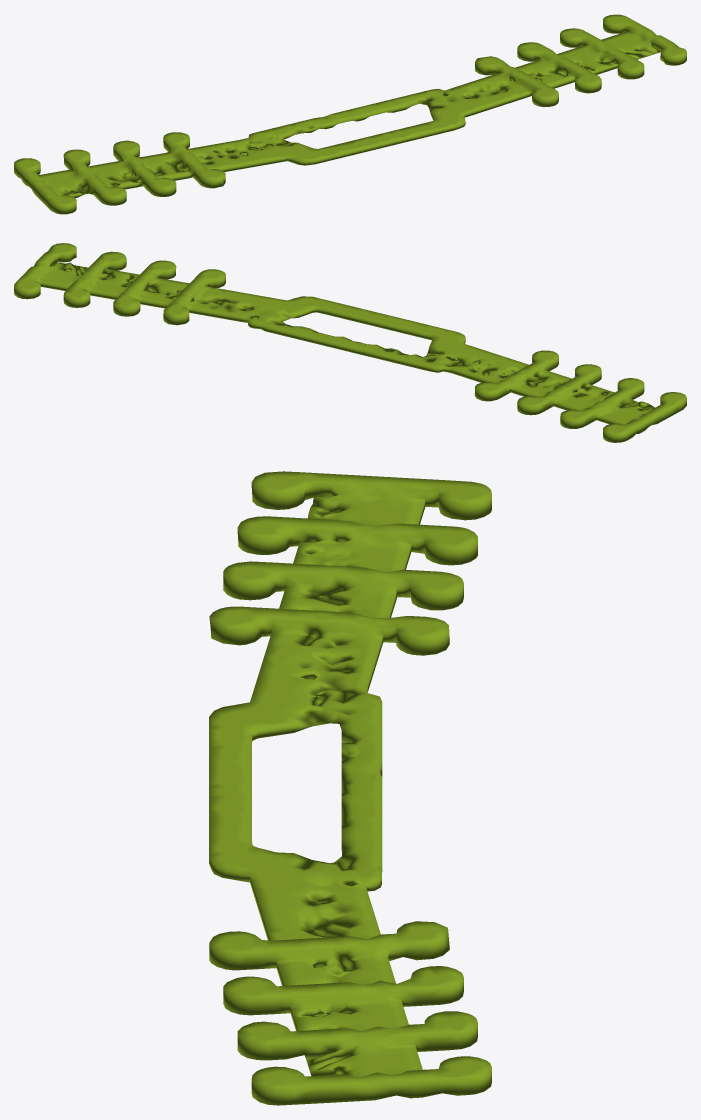
Rendered from model_decimated.obj.
The picture shows the model from 3 angles, top to bottom: view 1: azimuth 30°, elevation 25°; view 2: azimuth 150°, elevation 25°; view 3: azimuth 270°, elevation 25°; orthographic projection. The views are drawn at different scales.
Size of the model in its own units: 163 by 2.02 by 31.54.
